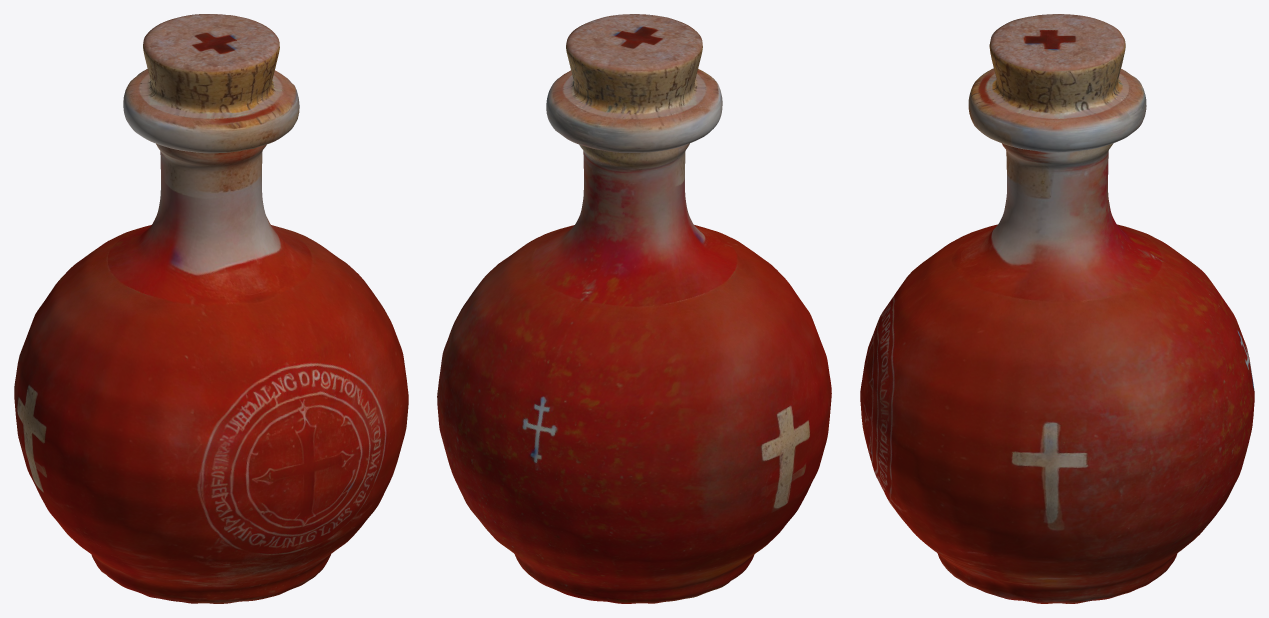
The model's file is The_Healing_Potion.glb.
3 views of the same model, side by side, from view 1: azimuth 30°, elevation 25°; view 2: azimuth 150°, elevation 25°; view 3: azimuth 270°, elevation 25° (orthographic).
Parts seen in each view (by area): view 1: file1; view 2: file1; view 3: file1.
Part boxes in pixels (bbox=[...]): file1: bbox=[14, 14, 408, 603]; file1: bbox=[437, 14, 831, 603]; file1: bbox=[860, 14, 1254, 603].
Size of the model in its own units: 1.36 by 2 by 1.36.
1 material, 1 textured.
